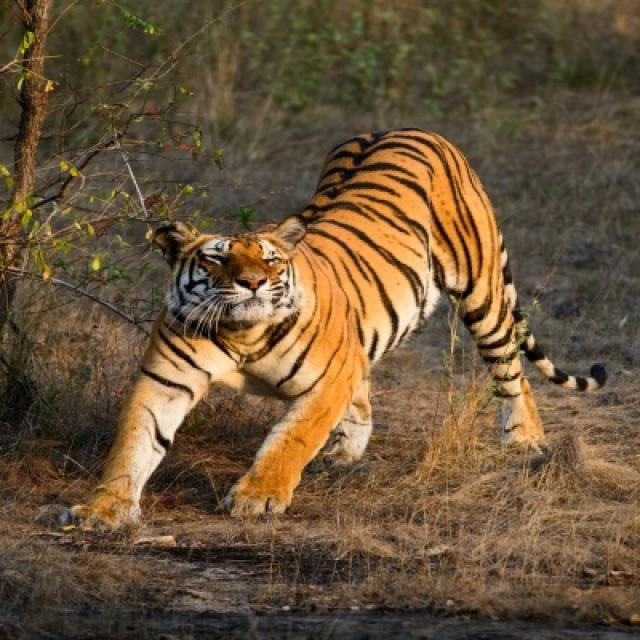Tiger: (68, 129, 557, 531)
